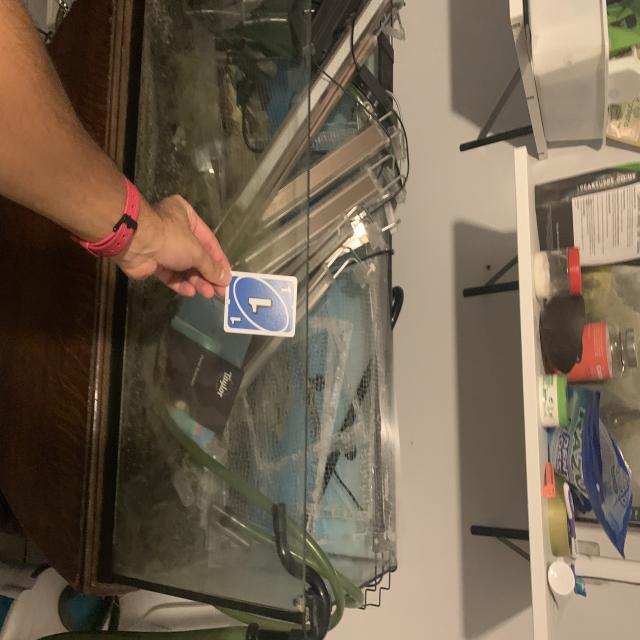lblue-1: (276, 280, 296, 297)
